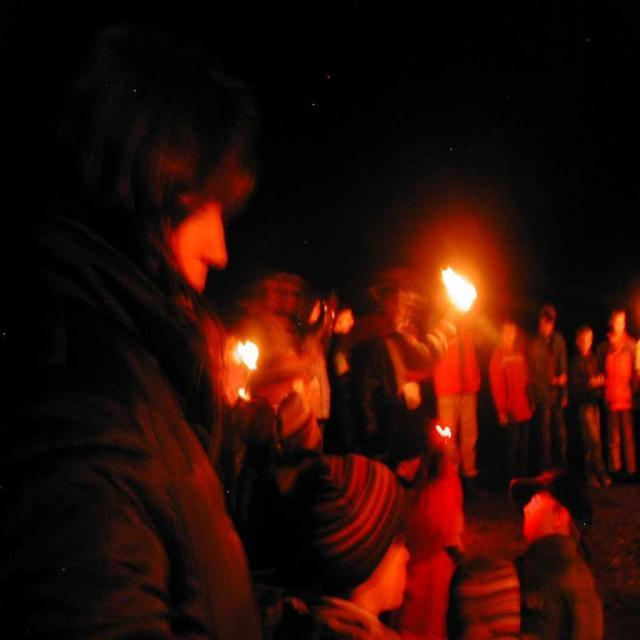Fire: (446, 264, 481, 314), (233, 338, 260, 375), (239, 389, 245, 397)
